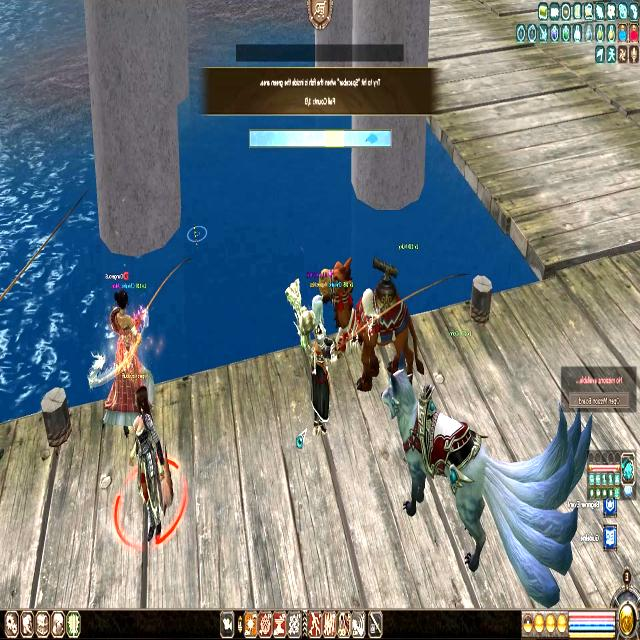fishes: (366, 132, 378, 144)
